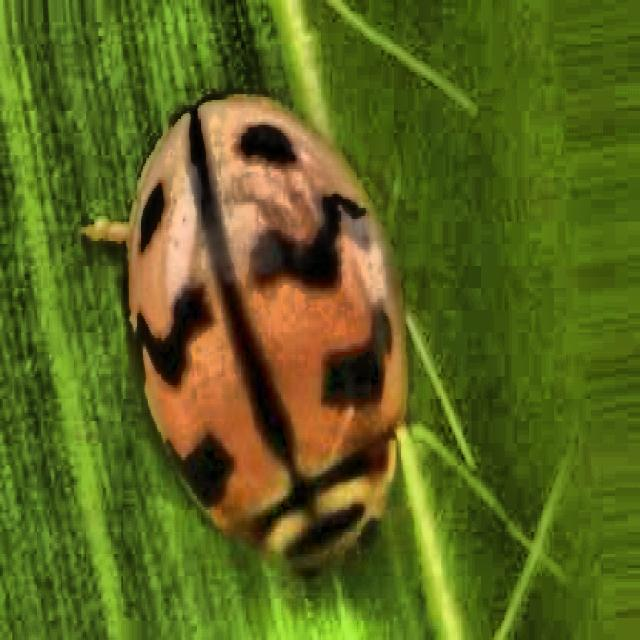Asian-Lady-beetle: (92, 51, 433, 577)
